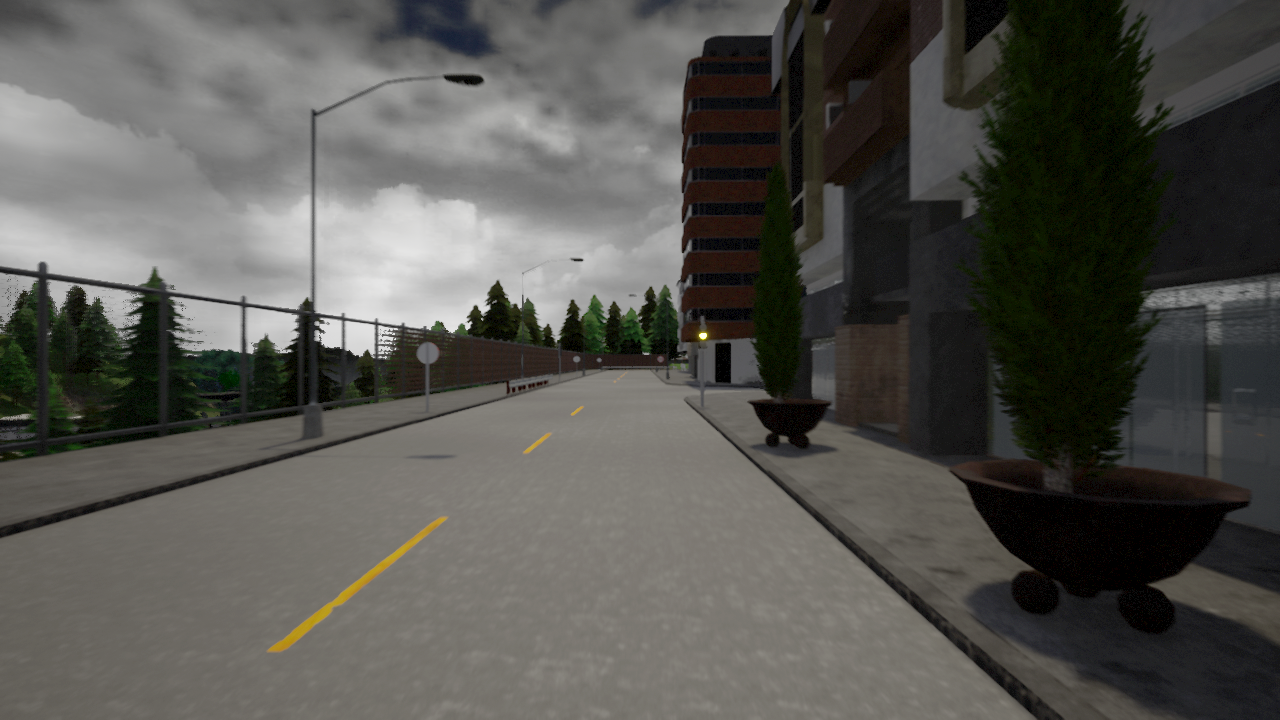yellow: (698, 323, 709, 349)
